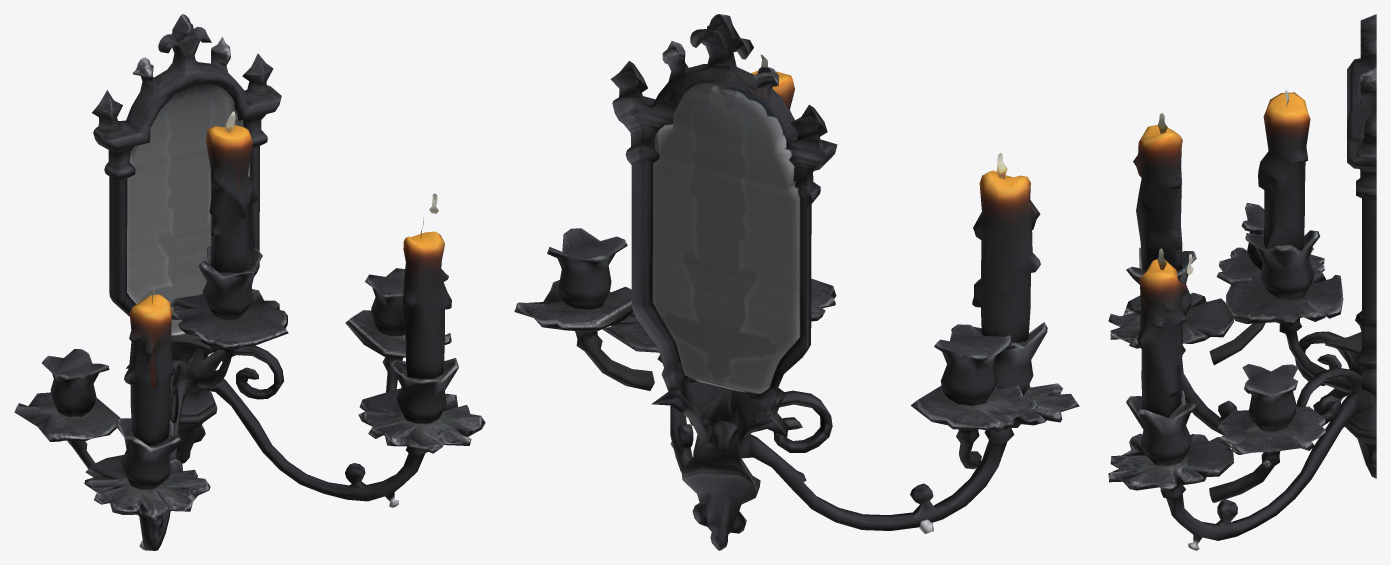
File: applique.fbx
3 renders of one model, left to right at view 1: azimuth 30°, elevation 25°; view 2: azimuth 150°, elevation 25°; view 3: azimuth 270°, elevation 25°, orthographic. The views are drawn at different scales.
Parts seen in each view (by area): view 1: tripo_node_7477d4b1; view 2: tripo_node_7477d4b1; view 3: tripo_node_7477d4b1.
Boxes of the visible parts, x1,y1,x2,y2 form: tripo_node_7477d4b1: (14,14,485,550); tripo_node_7477d4b1: (514,14,1079,550); tripo_node_7477d4b1: (1108,14,1376,550).
Bounding box in the file's own units: 0.9302 × 0.9995 × 0.5112.
1 material, 1 textured.
